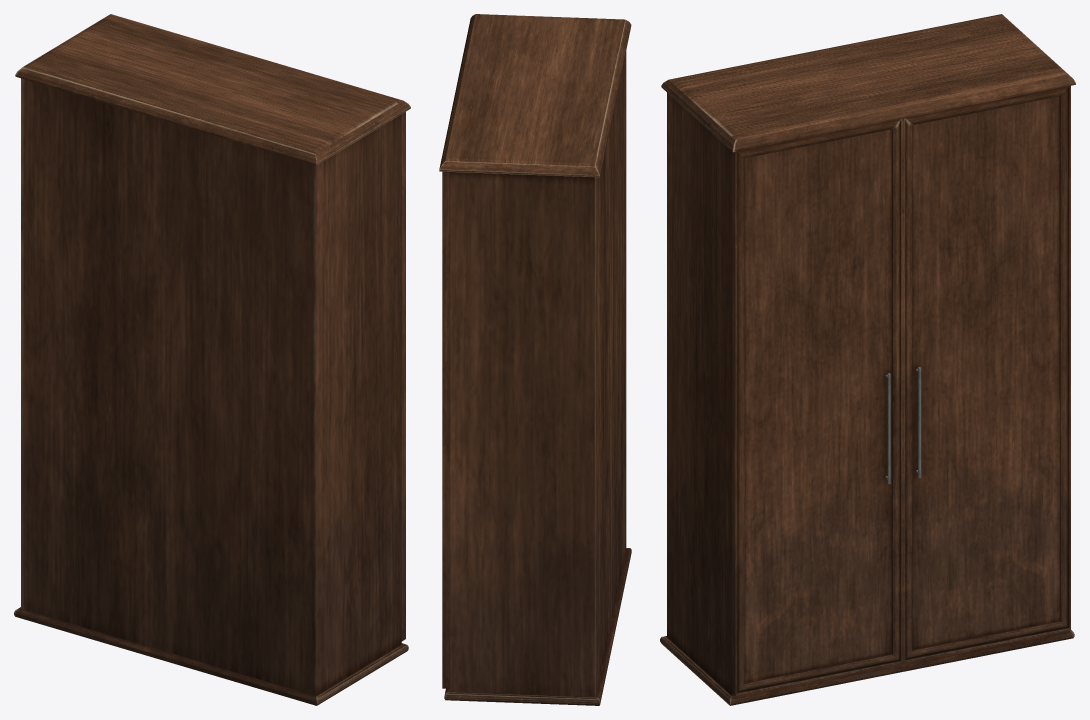
The model's file is Wardrobe.glb.
The picture shows the model from 3 angles, left to right: view 1: azimuth 30°, elevation 25°; view 2: azimuth 150°, elevation 25°; view 3: azimuth 270°, elevation 25°; orthographic projection. The views are drawn at different scales.
Parts seen in each view (by area): view 1: dresser_02_base, dresser_door_r.002; view 2: dresser_02_base, dresser_door_r.001_dresser02_0; view 3: dresser_door_r.002, dresser_door_r.001_dresser02_0, dresser_02_base.
Boxes of the visible parts, x1,y1,x2,y2 form: dresser_02_base: (14, 14, 410, 705); dresser_door_r.002: (401, 112, 405, 641); dresser_02_base: (439, 14, 631, 705); dresser_door_r.001_dresser02_0: (442, 171, 449, 688); dresser_door_r.002: (732, 119, 903, 695); dresser_door_r.001_dresser02_0: (903, 86, 1070, 662); dresser_02_base: (660, 14, 1075, 705).
Size of the model in its own units: 1.02 by 2.03 by 1.35.
1 material, 1 textured.
